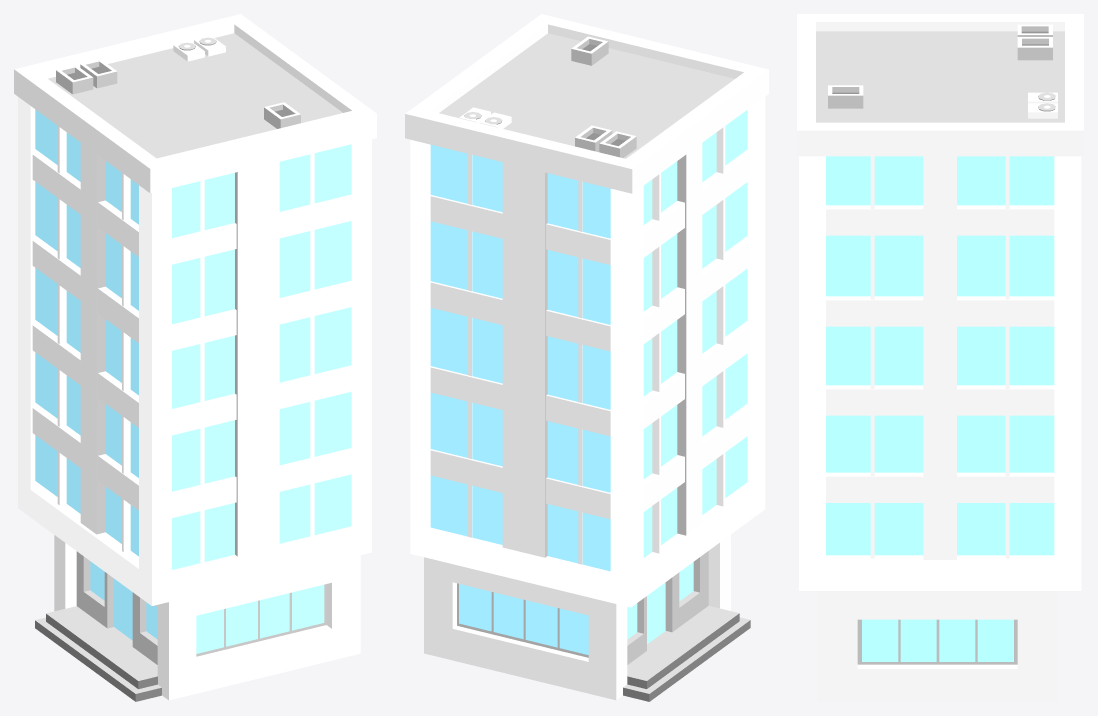
Rendered from tile_for_home_1x1.006.glb.
3 renders of one model, left to right at view 1: azimuth 30°, elevation 25°; view 2: azimuth 150°, elevation 25°; view 3: azimuth 270°, elevation 25°, orthographic. The views are drawn at different scales.
Visible parts, largest first — view 1: apartment.009; view 2: apartment.009; view 3: apartment.009.
Boxes of the visible parts, <box> form: apartment.009: <box>14,14,376,701</box>; apartment.009: <box>405,14,768,701</box>; apartment.009: <box>797,14,1083,701</box>.
Size of the model in its own units: 7.6 by 17.58 by 7.9.
1 material, 1 textured.
